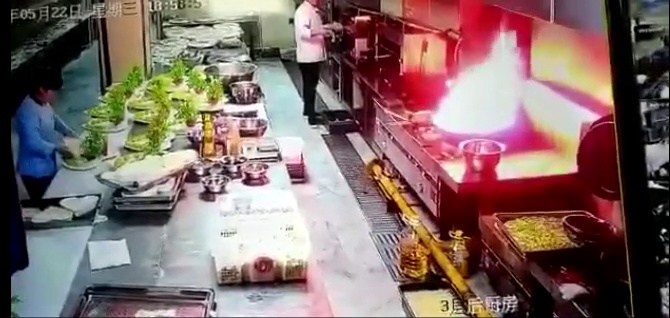fire: (435, 39, 526, 136)
